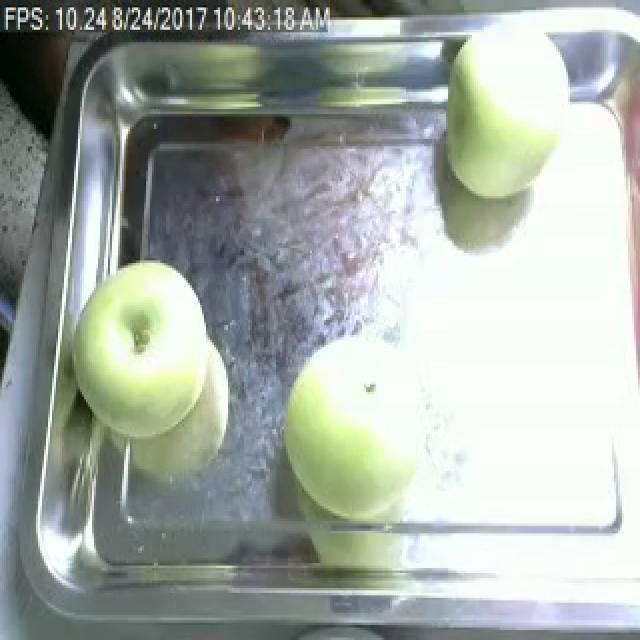50-_ripeness: (273, 334, 429, 523), (70, 268, 212, 423)
